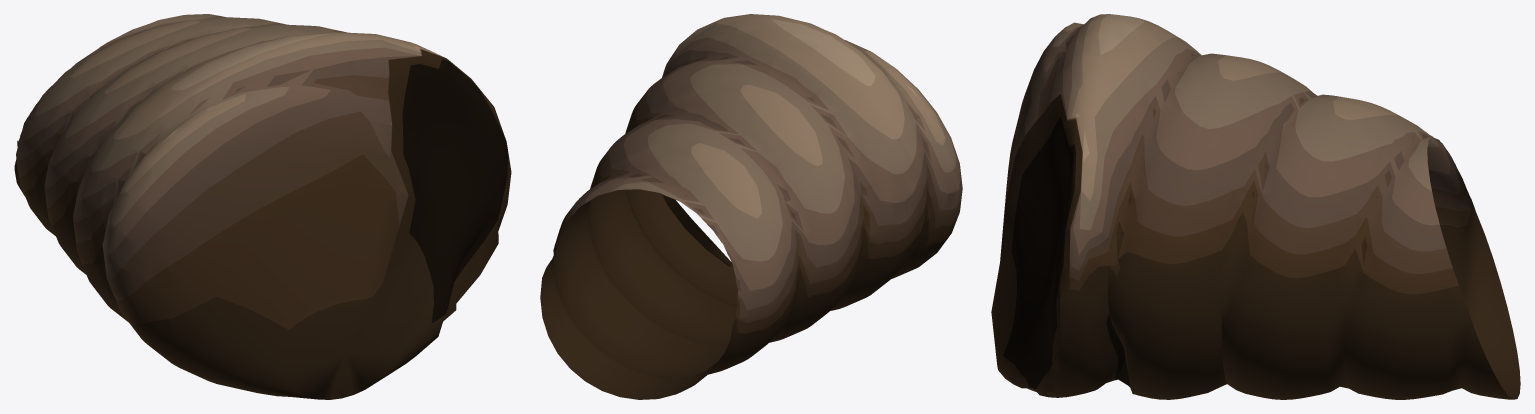
The model's file is coral_shell_base.glb.
3 views of the same model, side by side, from view 1: azimuth 30°, elevation 25°; view 2: azimuth 150°, elevation 25°; view 3: azimuth 270°, elevation 25° (orthographic). The views are drawn at different scales.
Parts seen in each view (by area): view 1: coral_shell_base; view 2: coral_shell_base; view 3: coral_shell_base.
Part boxes in pixels (left/top/right/bottom): coral_shell_base: left=14, top=14, right=511, bottom=399; coral_shell_base: left=540, top=14, right=962, bottom=399; coral_shell_base: left=991, top=14, right=1520, bottom=399.
Bounding box in the file's own units: 19.01 × 15.4 × 21.85.
